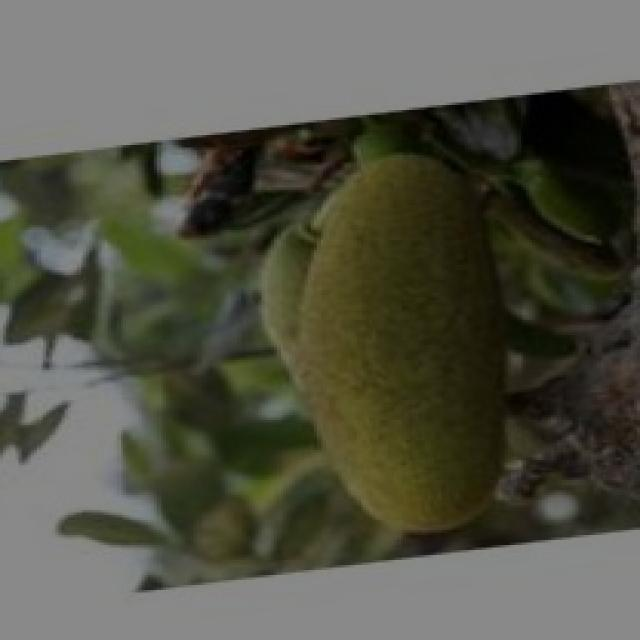Fruit: (228, 127, 554, 545)
